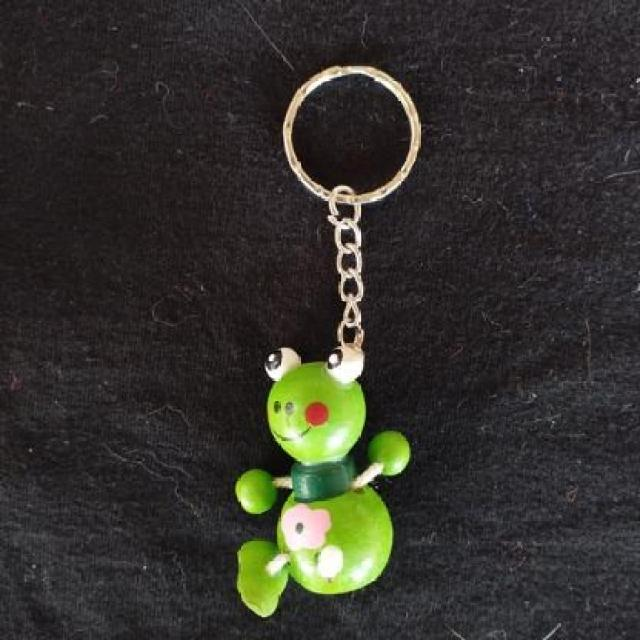Llavero: (233, 342, 412, 618)
